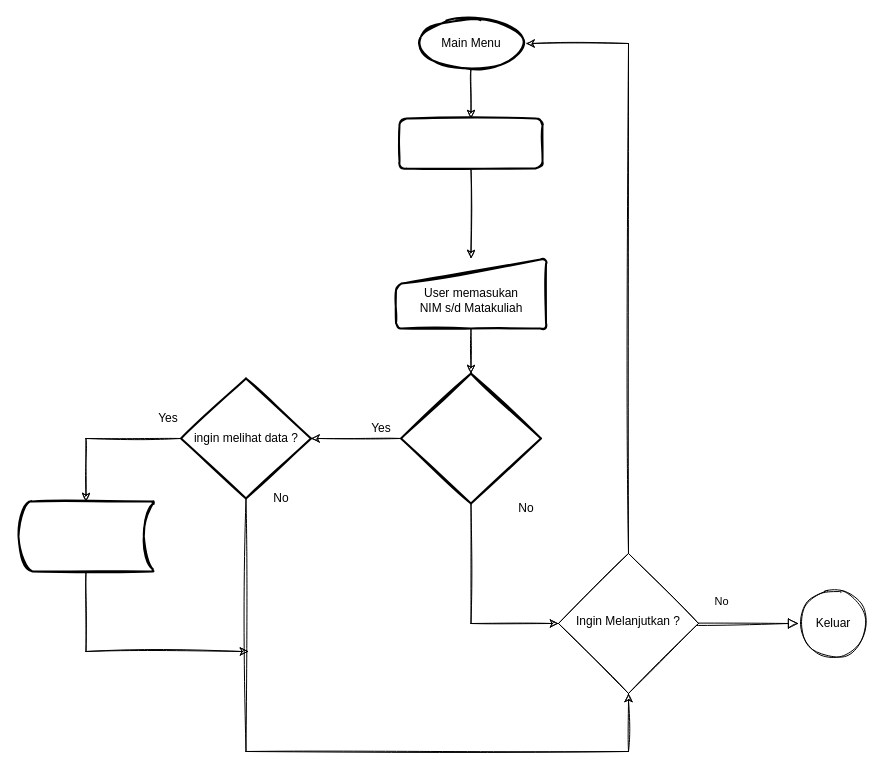
Image size: 886x777. Some labels were removed from this diagram. Here are the shapes that lost their labels. From the top down, the centre of each, then its label:
At (470,143): "Tambah data".
At (471,438): "ingin menambahkan ?".
At (85,536): "Tampilkan data".
